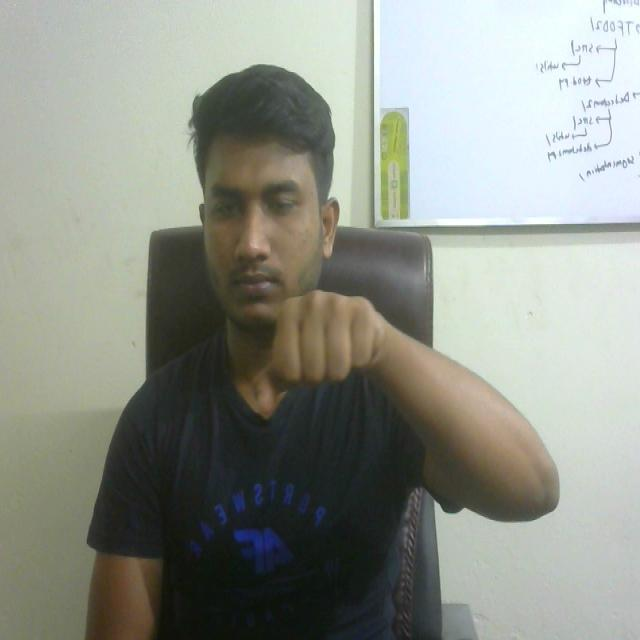I: (241, 280, 386, 443)
